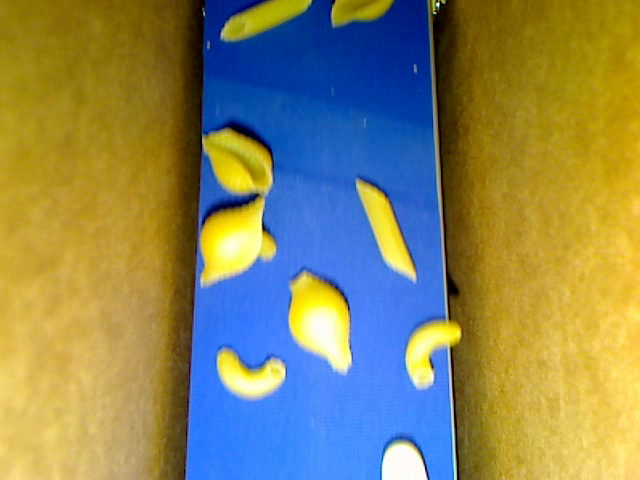elbow: (404, 318, 461, 391), (216, 346, 287, 401), (258, 231, 277, 262)
penne: (354, 178, 418, 283), (219, 1, 311, 42)
shell: (286, 267, 354, 375), (198, 196, 264, 287), (201, 128, 274, 197), (330, 1, 394, 29)
